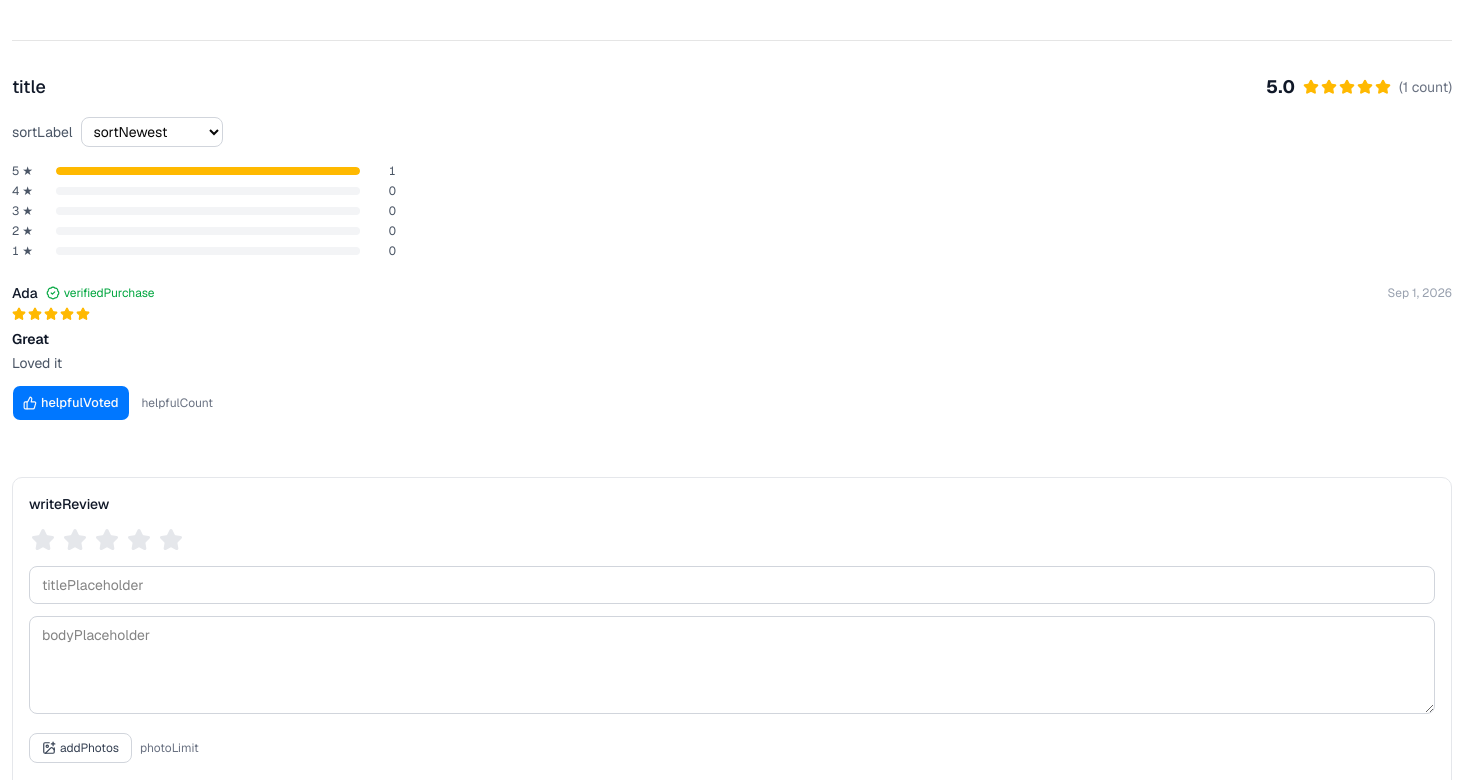
Test case: ProductReviews helpful vote (F-5) › takes the vote back when the caller had already voted
This screenshot has width=1464, height=780.
What coordinates should you click on to do the following:
click the button with test id "review-helpful-rev_1"
I would click on:
 (71, 403)
Its box is [12,385,130,421].
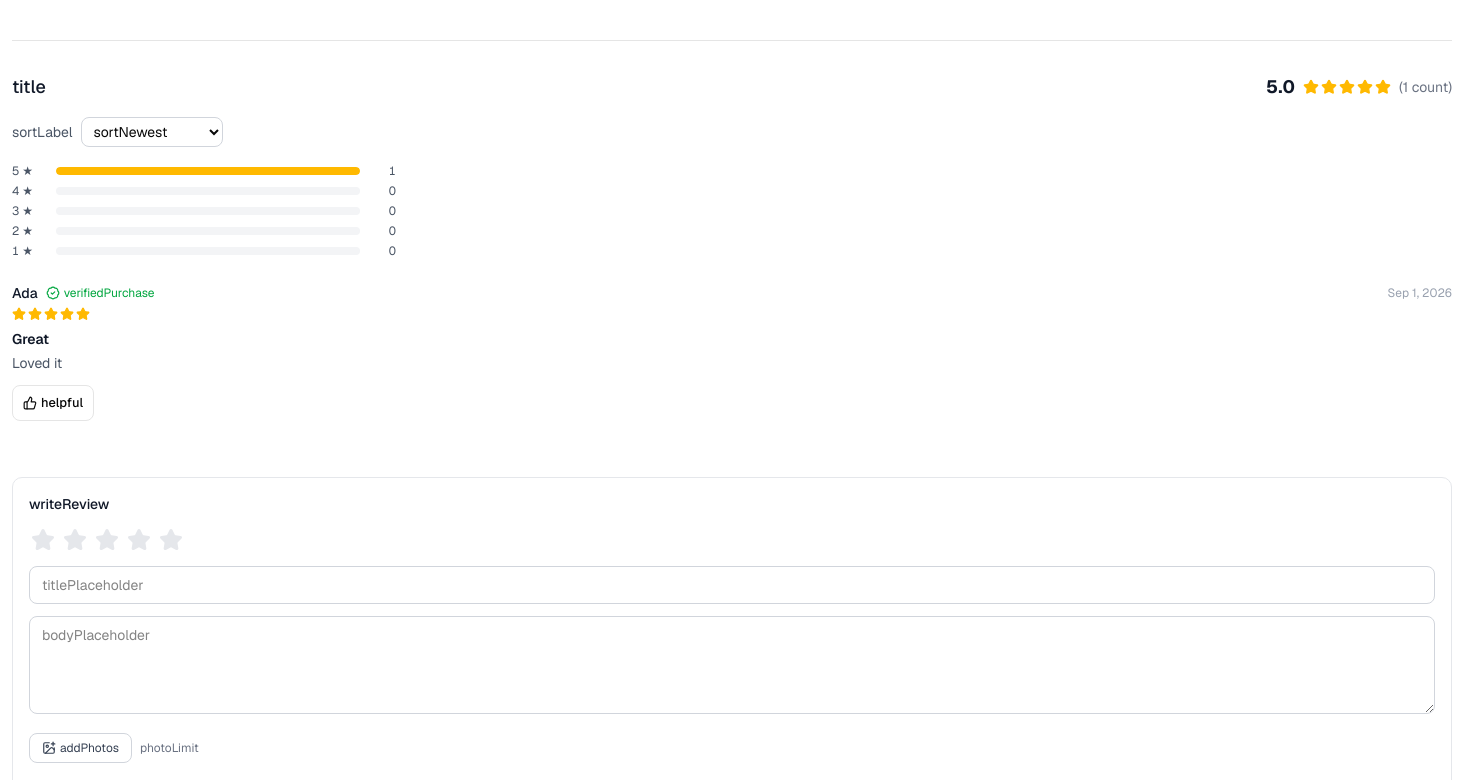
Check: the button with test id "review-helpful-rev_1" reads "helpful", box [12,385,94,421]
